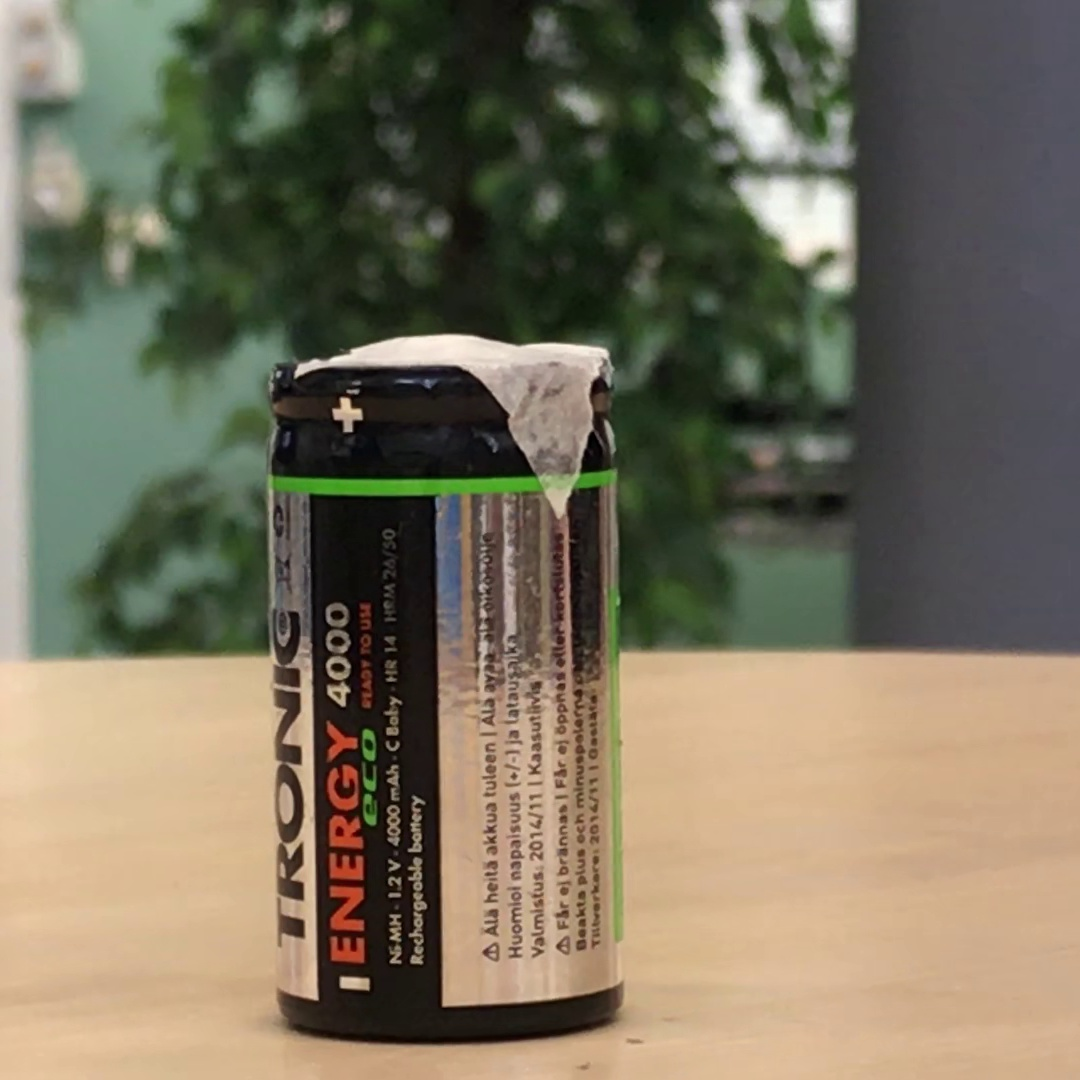keyword: (380, 851, 410, 907)
